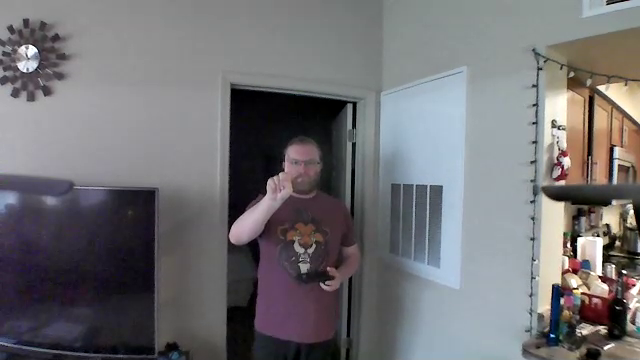up: (262, 153, 302, 206)
